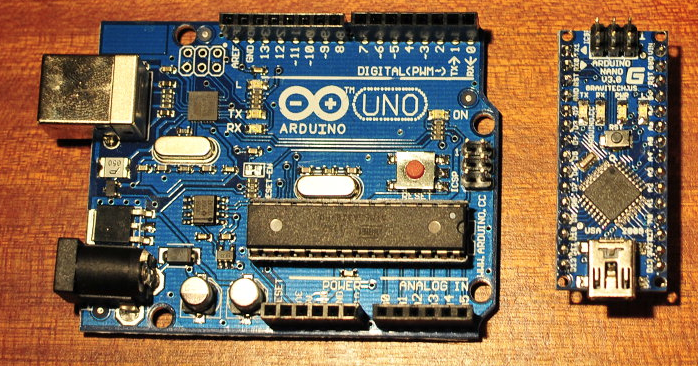Arduino: (33, 11, 502, 344)
